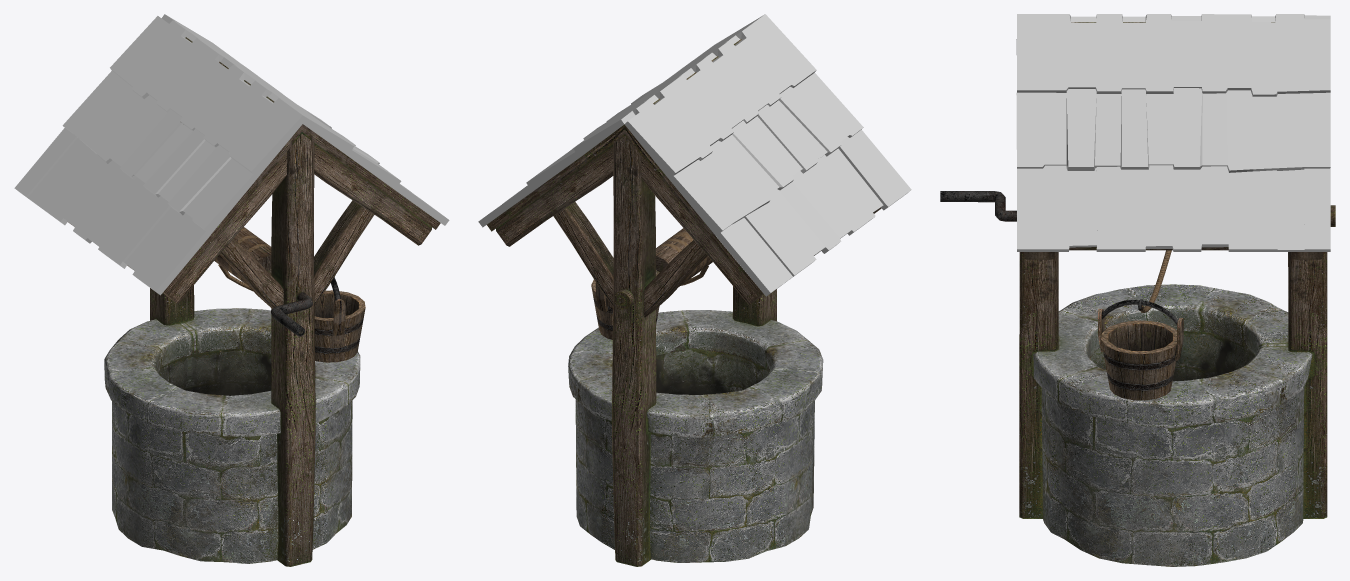
Rendered from CA_Well_Final.fbx.
3 views of the same model, side by side, from view 1: azimuth 30°, elevation 25°; view 2: azimuth 150°, elevation 25°; view 3: azimuth 270°, elevation 25° (orthographic). The views are drawn at different scales.
Parts seen in each view (by area): view 1: CA_Well, CA_Well_Bucket, CA_Well_Lever; view 2: CA_Well, CA_Well_Lever, CA_Well_Bucket; view 3: CA_Well, CA_Well_Bucket, CA_Well_Lever.
Boxes of the visible parts, box(x1,y1,x2,y2) form: CA_Well: box(14, 14, 449, 566); CA_Well_Bucket: box(314, 276, 365, 362); CA_Well_Lever: box(214, 227, 312, 336); CA_Well: box(478, 14, 911, 566); CA_Well_Lever: box(613, 228, 712, 309); CA_Well_Bucket: box(591, 279, 659, 339); CA_Well: box(1016, 14, 1330, 566); CA_Well_Bucket: box(1098, 299, 1183, 400); CA_Well_Lever: box(940, 191, 1335, 226).
Bounding box in the file's own units: 203 × 297 × 214.
